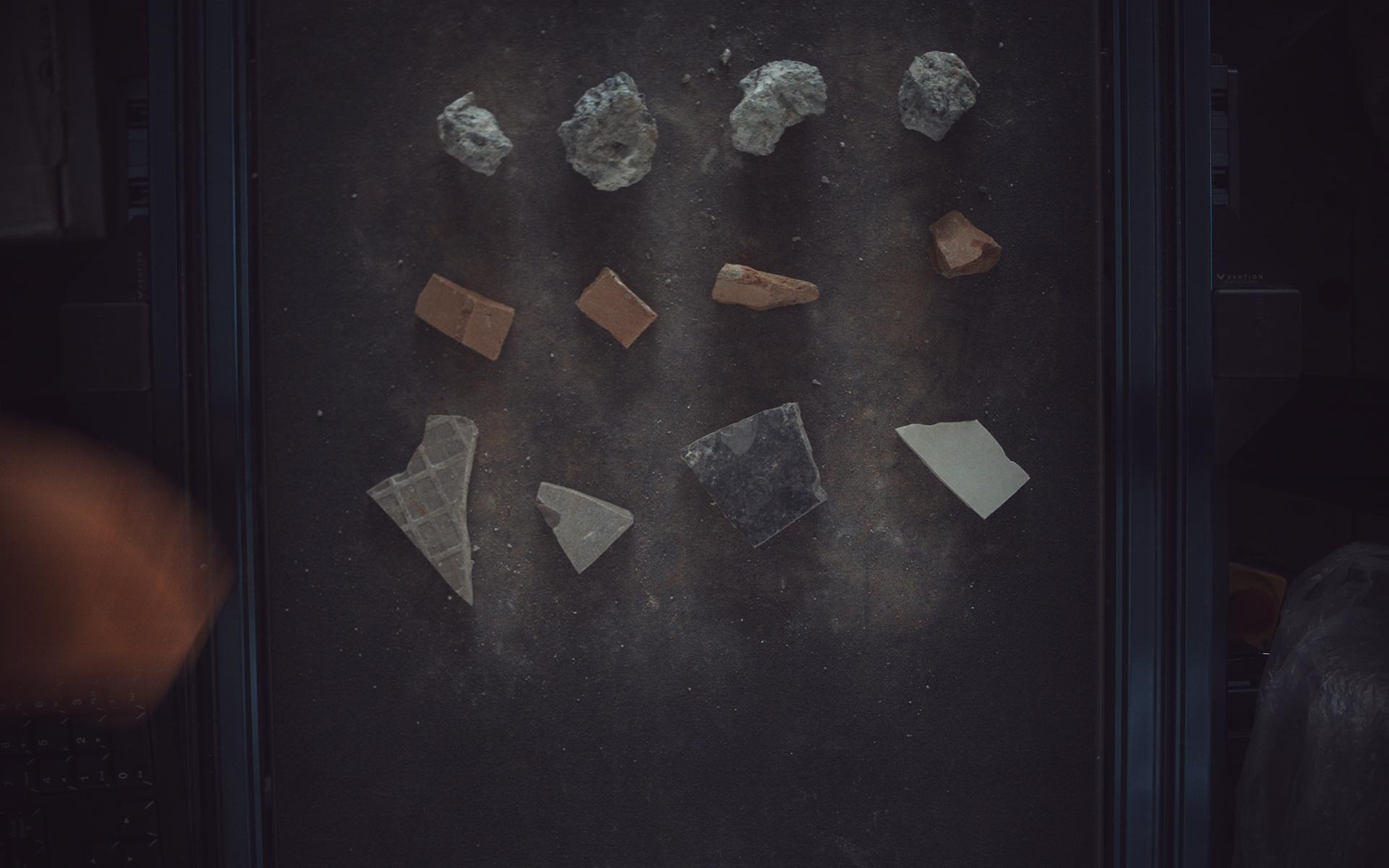brick: (417, 273, 514, 360), (577, 266, 658, 348), (713, 263, 820, 310), (931, 210, 1003, 278)
concrete: (558, 71, 658, 190), (731, 59, 828, 155), (900, 49, 982, 140), (438, 90, 513, 175)
tile: (682, 403, 828, 547), (368, 415, 478, 605), (898, 420, 1031, 519), (536, 482, 634, 574)
